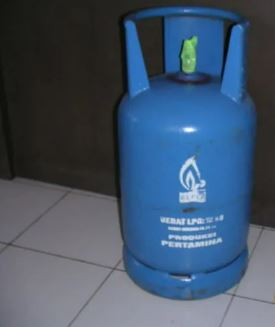blue_gas: (117, 7, 256, 299)
